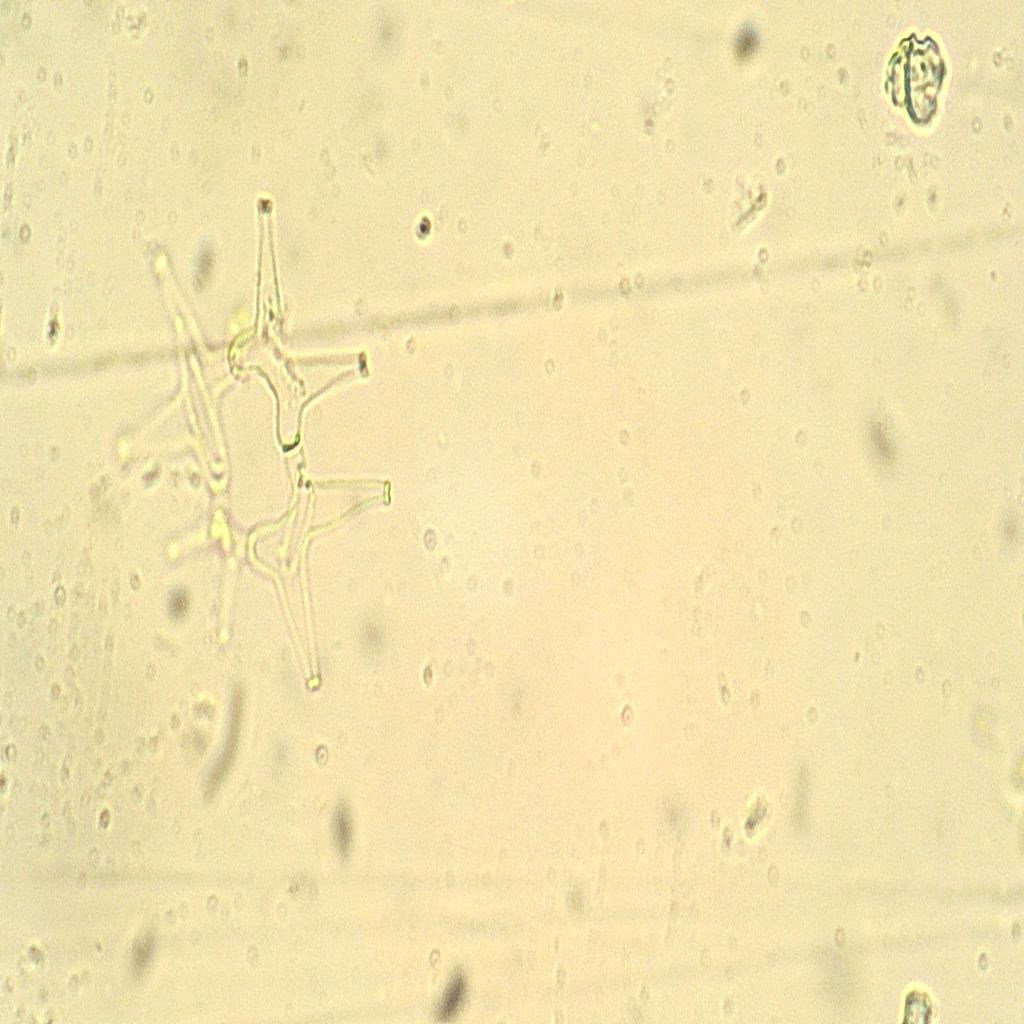Pediastrum_1F0: (87, 170, 427, 724)
